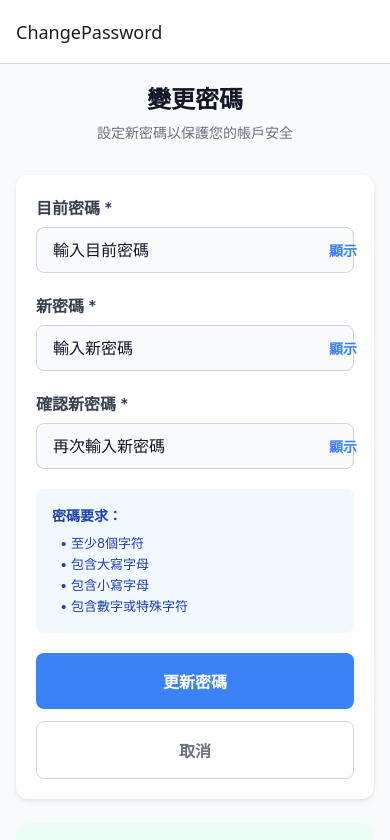
Test: ChangePasswordScreen › should toggle password visibility
Click the text "顯示" below "目前密碼 *" at [343, 250], box [329,240,357,260]
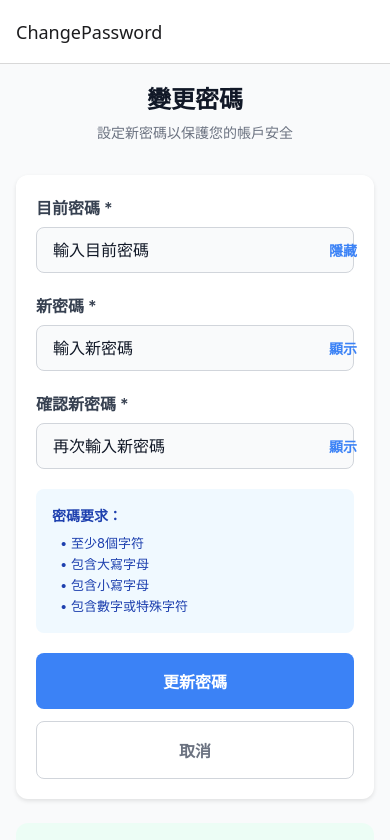
Check: the text "隱藏" is shown, box [329,240,357,260]
Click the 1st text "顯示" at [343, 348], box [329,338,357,358]
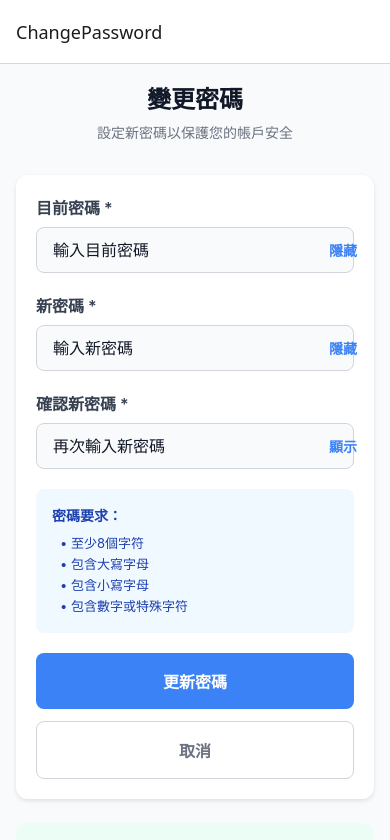
Check: the 2nd text "隱藏" is shown, box [329,338,357,358]
Click the text "顯示" at [343, 446], box [329,436,357,456]
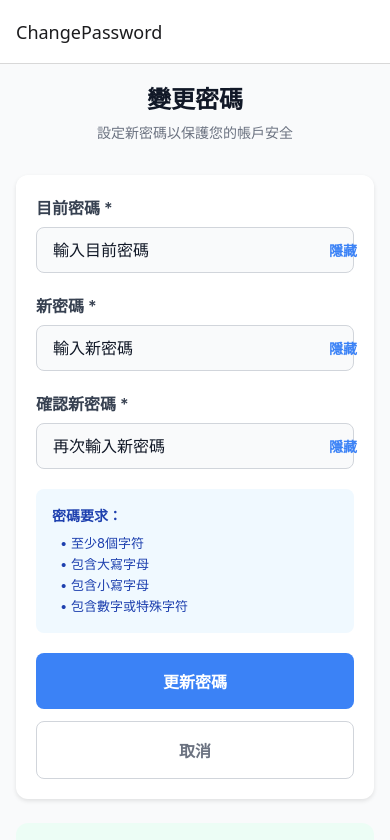
Check: the text "隱藏" below "確認新密碼 *" is shown, box [329,438,357,455]
